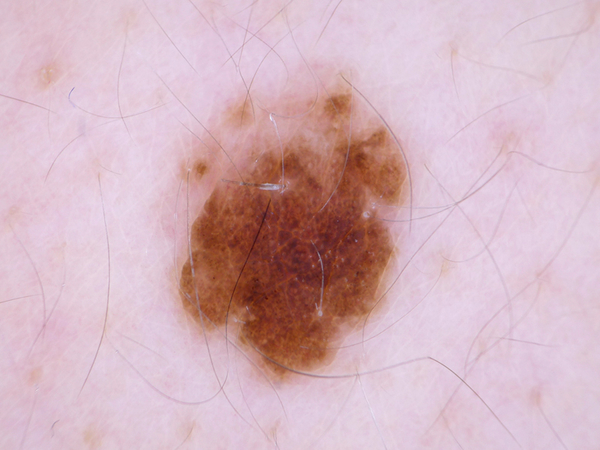Detected Lesion: (166, 72, 412, 390)
